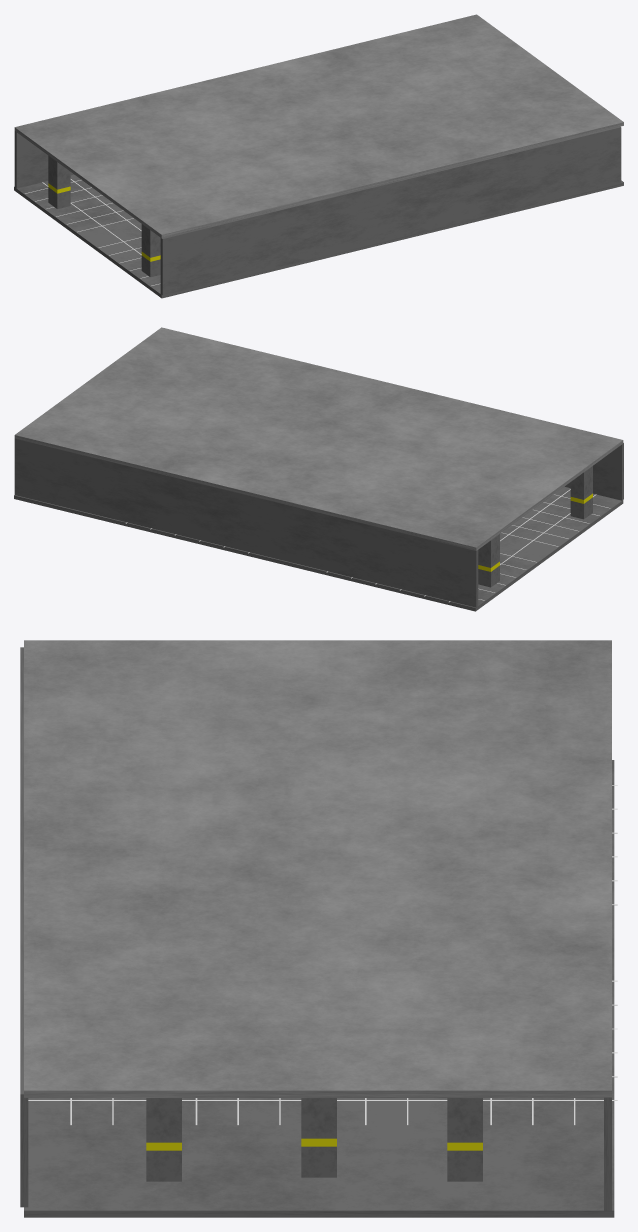
Rendered from Frame 11. Convincing exit route looping directly into another garage region.fbx.
3 views of the same model, one above another, from view 1: azimuth 30°, elevation 25°; view 2: azimuth 150°, elevation 25°; view 3: azimuth 270°, elevation 25° (orthographic). The views are drawn at different scales.
Visible parts, largest first — view 1: Cube.235, Cube.237, Cube.234, Cube.236, Cube.243, Cube.240, Cube.245; view 2: Cube.235, Cube.236, Cube.234, Cube.237, Cube.240, Cube.243, Cube.244; view 3: Cube.235, Cube.234, Cube.255, Cube.256, Cube.253, Cube.237, Cube.236.
Part boxes in pixels (x1,y1,x2,y2): Cube.235: (14,14,623,238); Cube.237: (160,126,621,295); Cube.234: (14,174,623,298); Cube.236: (14,131,73,188); Cube.243: (48,155,70,208); Cube.240: (141,224,160,277); Cube.245: (25,179,137,233); Cube.235: (14,327,623,550); Cube.236: (14,438,478,607); Cube.234: (14,486,623,611); Cube.237: (565,443,623,500); Cube.240: (570,466,592,519); Cube.243: (478,534,499,587); Cube.244: (500,489,610,548); Cube.235: (24,640,611,1097); Cube.234: (24,760,614,1217); Cube.255: (146,1098,181,1181); Cube.256: (447,1098,482,1181); Cube.253: (301,1098,336,1177); Cube.237: (20,647,28,1207); Cube.236: (604,1097,611,1210).
Size of the model in its own units: 27234 by 3581 by 15255.
Materials: 4 (2 with a texture image).
